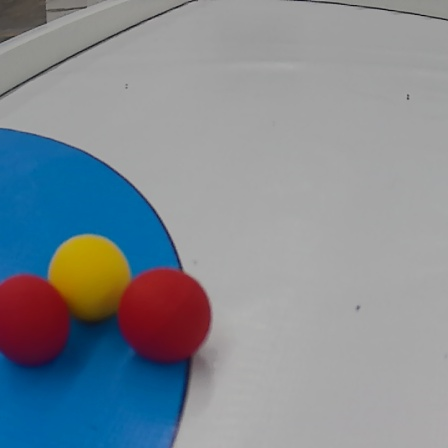blue_base: (1, 125, 193, 448)
red: (116, 268, 211, 363), (0, 275, 71, 367)
yellow: (47, 234, 130, 323)
